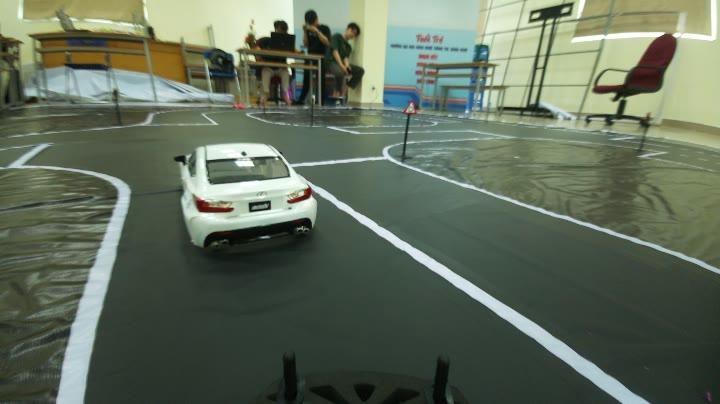car: (168, 142, 341, 244)
